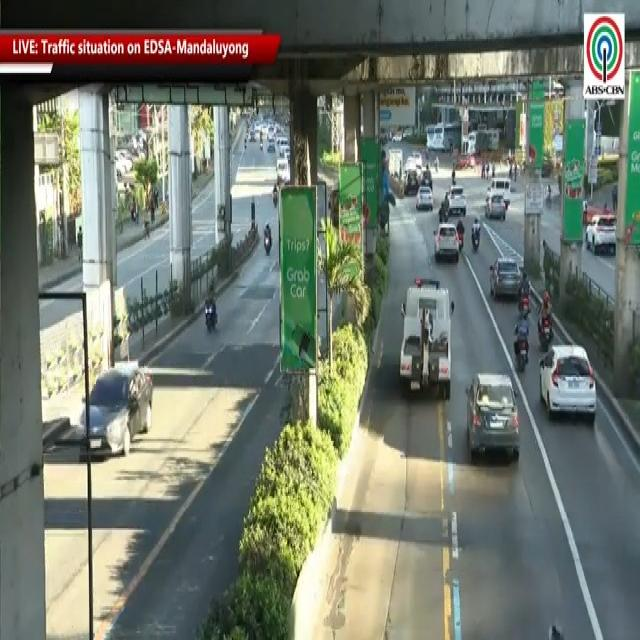car: (70, 359, 156, 444), (539, 341, 605, 423), (471, 361, 518, 468), (484, 245, 523, 310), (430, 223, 466, 260), (444, 183, 468, 216), (418, 189, 433, 213)
motorbike: (510, 283, 533, 379), (531, 284, 555, 356), (202, 274, 224, 334)
truck: (394, 270, 458, 410)
